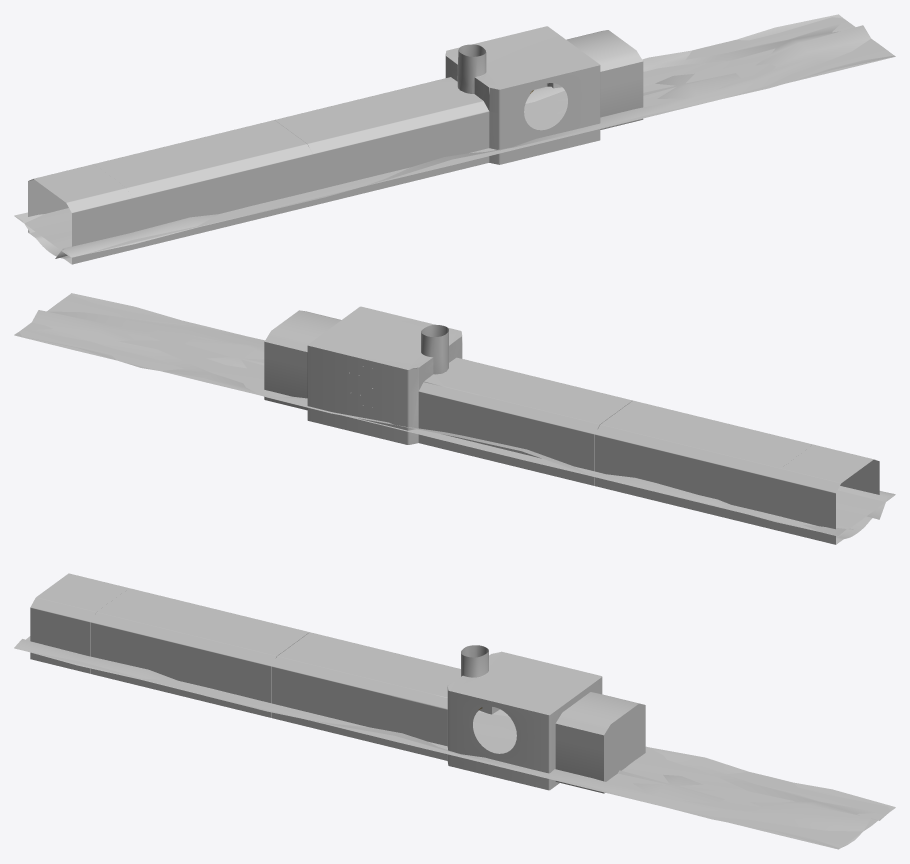
The model's file is ZatopUV2.fbx.
3 views of the same model, one above another, from view 1: azimuth 30°, elevation 25°; view 2: azimuth 150°, elevation 25°; view 3: azimuth 330°, elevation 25° (orthographic).
Visible parts, largest first — view 1: Cube.004, Plane.002, Plane.001, Cube.005, Cube.000, Cube.006, Cube.001, Cube.002, Cube.003, Cube.048, Plane; view 2: Cube.004, Plane.002, Plane.001, Cube.005, Cube.003, Cube.000, Cube.002, Cube.001, Cube.006, Cube.048, Plane; view 3: Cube.004, Plane.002, Plane.001, Cube.006, Cube.001, Cube.000, Cube.002, Cube.005, Cube.003, Cube.048, Plane.
Boxes of the visible parts, x1=… form: Cube.004: x1=445, y1=26, x2=643, y2=164; Plane.002: x1=14, y1=14, x2=895, y2=258; Plane.001: x1=14, y1=17, x2=895, y2=257; Cube.005: x1=28, y1=164, x2=132, y2=264; Cube.000: x1=275, y1=105, x2=373, y2=205; Cube.006: x1=335, y1=90, x2=433, y2=190; Cube.001: x1=215, y1=120, x2=312, y2=220; Cube.002: x1=154, y1=134, x2=252, y2=234; Cube.003: x1=94, y1=149, x2=192, y2=249; Cube.048: x1=395, y1=77, x2=489, y2=176; Plane: x1=17, y1=60, x2=881, y2=256; Cube.004: x1=264, y1=306, x2=462, y2=444; Plane.002: x1=14, y1=293, x2=895, y2=535; Plane.001: x1=14, y1=294, x2=895, y2=536; Cube.005: x1=775, y1=444, x2=879, y2=544; Cube.003: x1=715, y1=430, x2=813, y2=529; Cube.000: x1=534, y1=386, x2=632, y2=485; Cube.002: x1=654, y1=415, x2=752, y2=515; Cube.001: x1=595, y1=400, x2=692, y2=500; Cube.006: x1=474, y1=371, x2=572, y2=470; Cube.048: x1=418, y1=357, x2=512, y2=456; Plane: x1=26, y1=338, x2=894, y2=534; Cube.004: x1=447, y1=645, x2=645, y2=793; Plane.002: x1=14, y1=639, x2=895, y2=848; Plane.001: x1=14, y1=622, x2=894, y2=849; Cube.006: x1=331, y1=647, x2=429, y2=747; Cube.001: x1=210, y1=617, x2=309, y2=717; Cube.000: x1=271, y1=632, x2=369, y2=732; Cube.002: x1=151, y1=603, x2=248, y2=702; Cube.005: x1=30, y1=573, x2=128, y2=673; Cube.003: x1=91, y1=588, x2=189, y2=688; Cube.048: x1=391, y1=661, x2=491, y2=760; Plane: x1=44, y1=629, x2=881, y2=846.
Size of the model in its own units: 4493 by 515 by 541.
